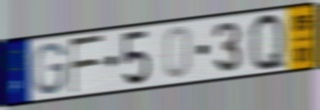0: (162, 24, 194, 82)
3: (212, 21, 244, 74)
5: (121, 28, 152, 87)
F: (68, 32, 106, 96)
G: (32, 41, 68, 97)
Q: (247, 10, 289, 73)
